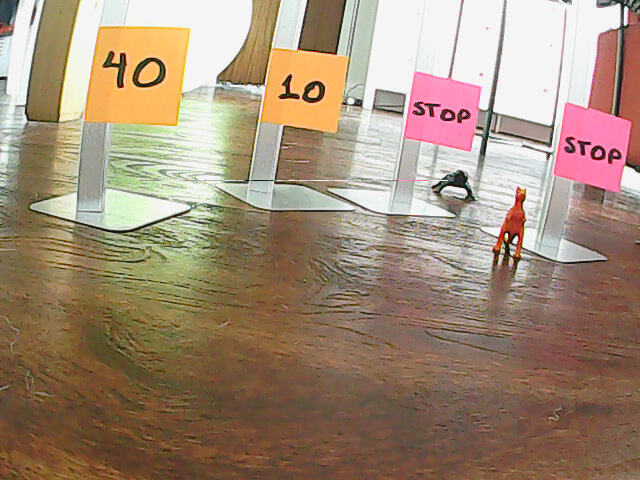10: (267, 59, 337, 120)
40: (92, 35, 181, 123)
dinosaur: (490, 184, 532, 269)
stop: (562, 127, 624, 180), (413, 83, 472, 135)
turtle: (427, 163, 480, 203)
